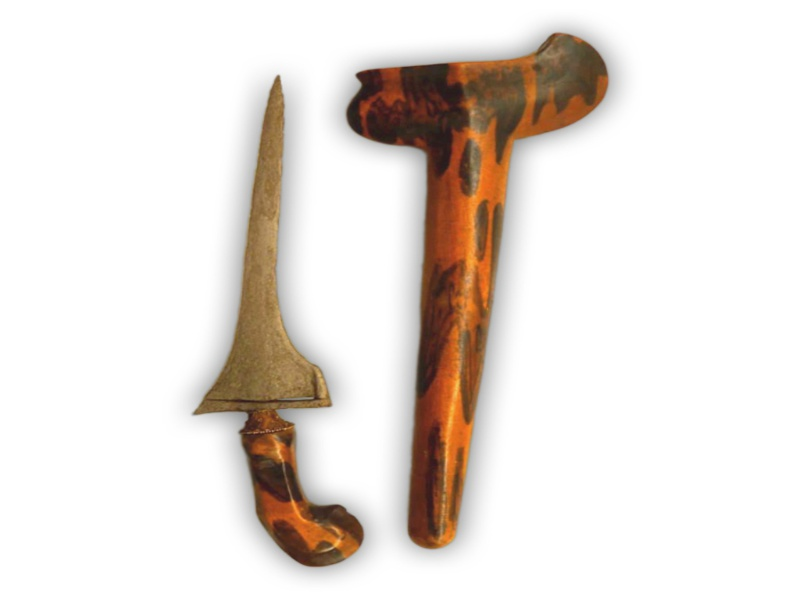knife: (188, 71, 370, 570)
